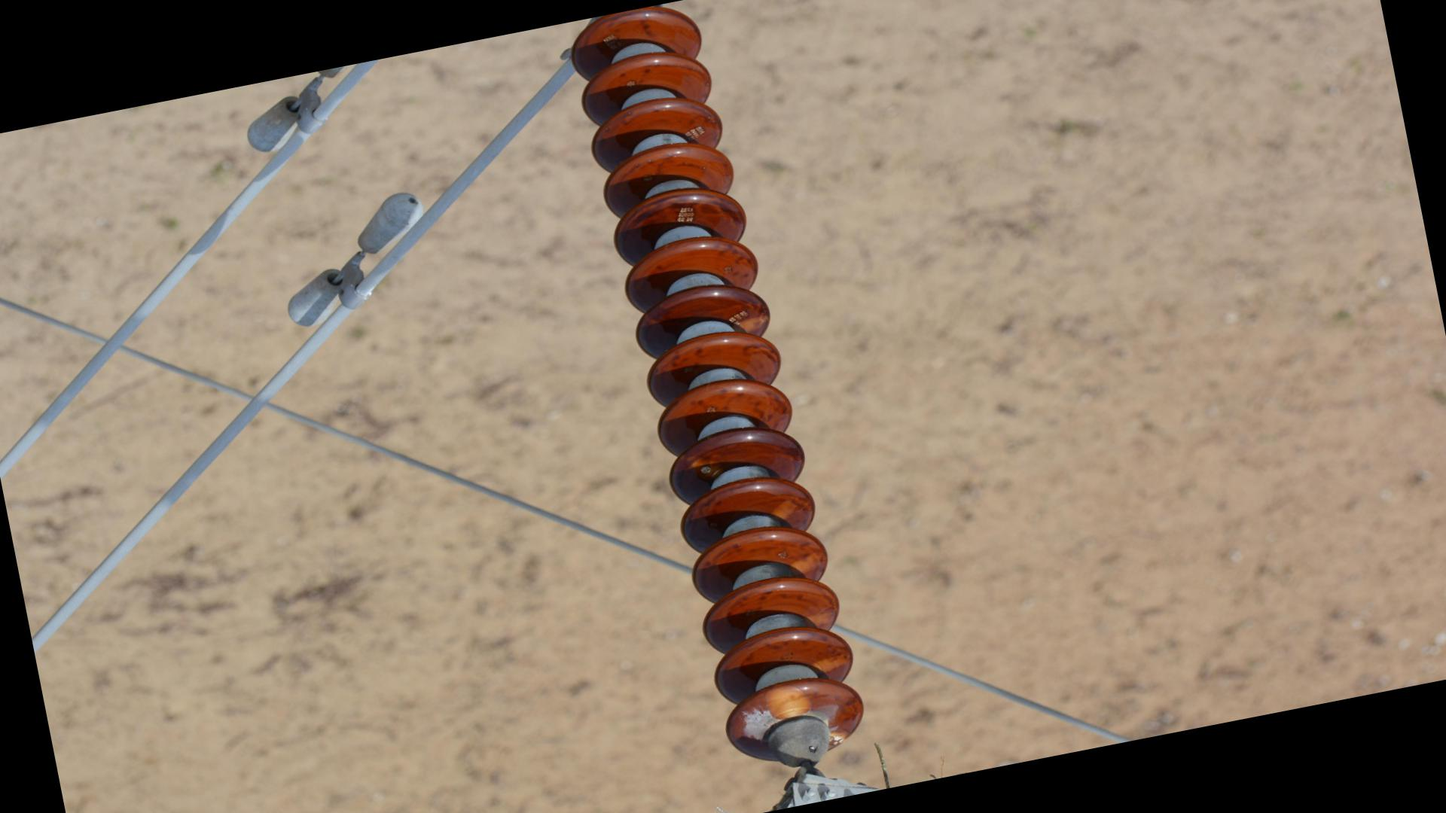damper: (262, 181, 449, 337), (222, 7, 405, 163)
